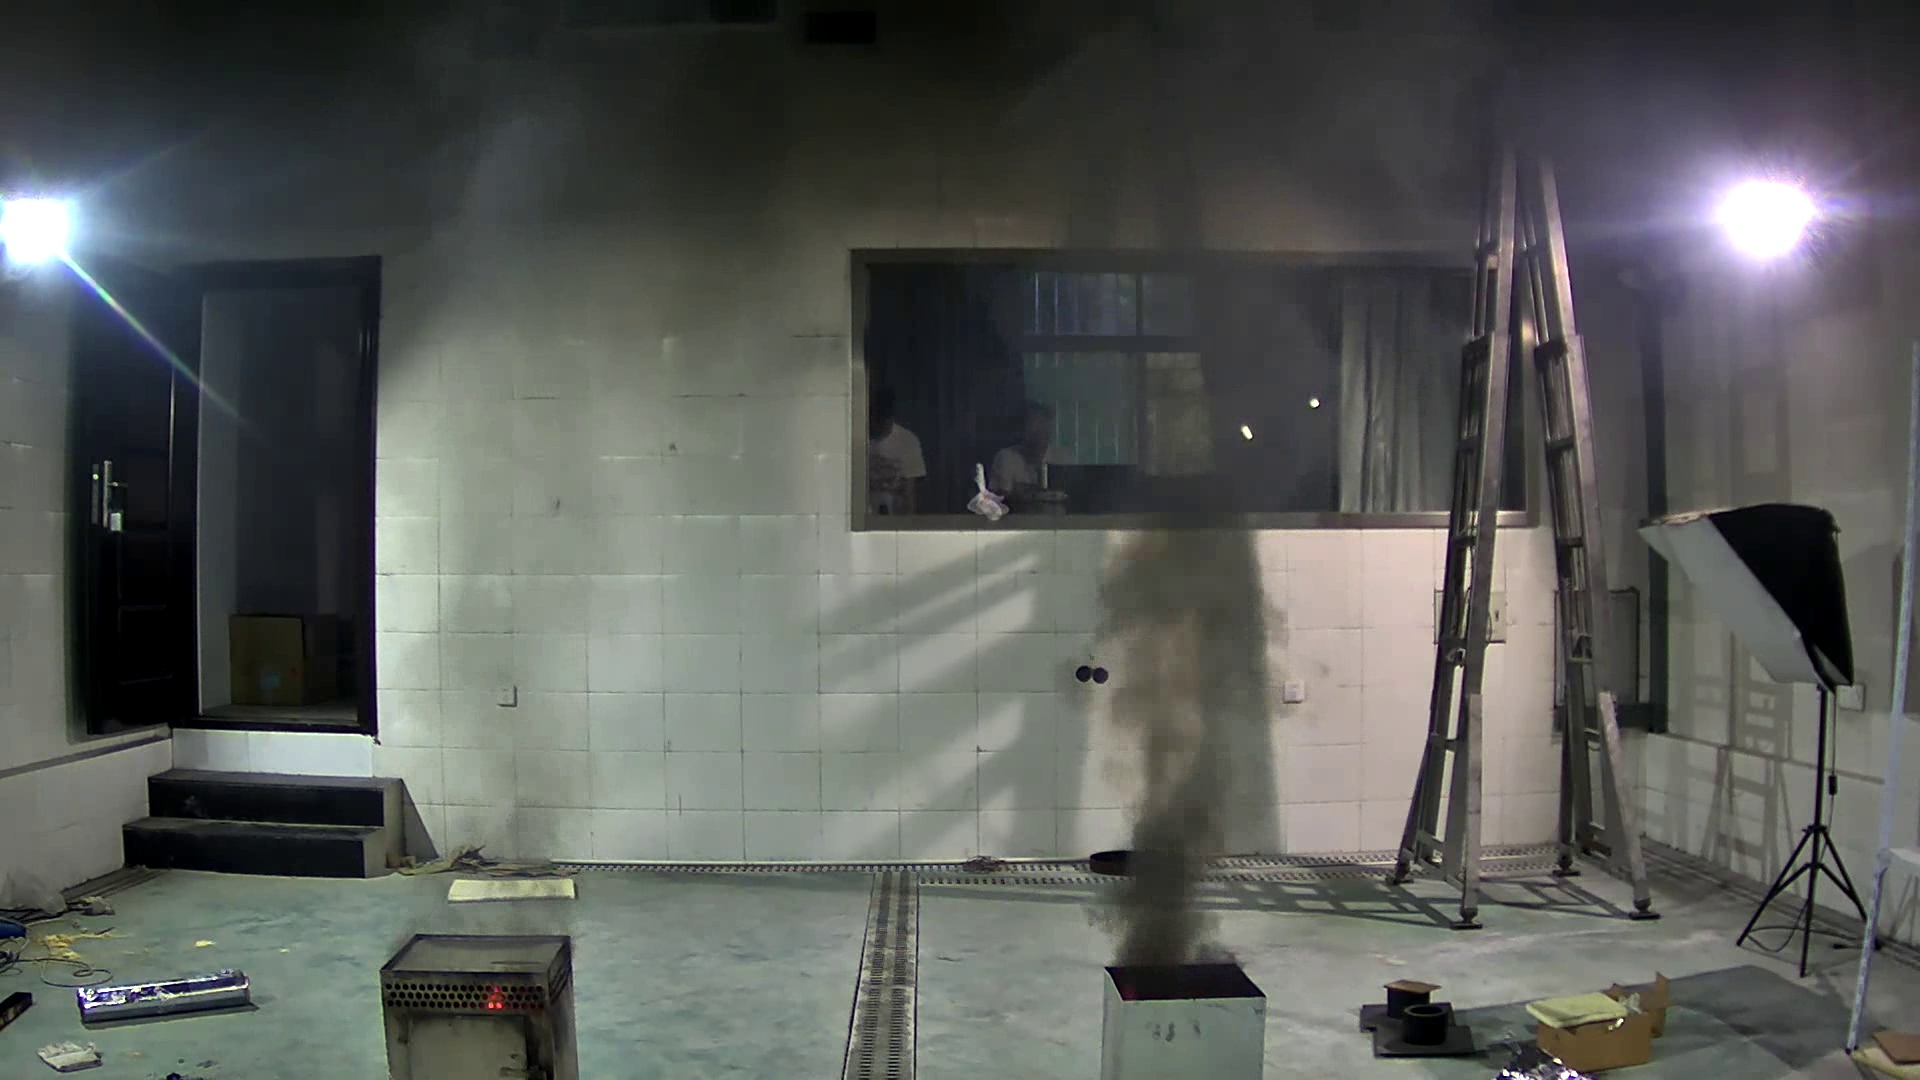smoke: (1083, 473, 1288, 955)
